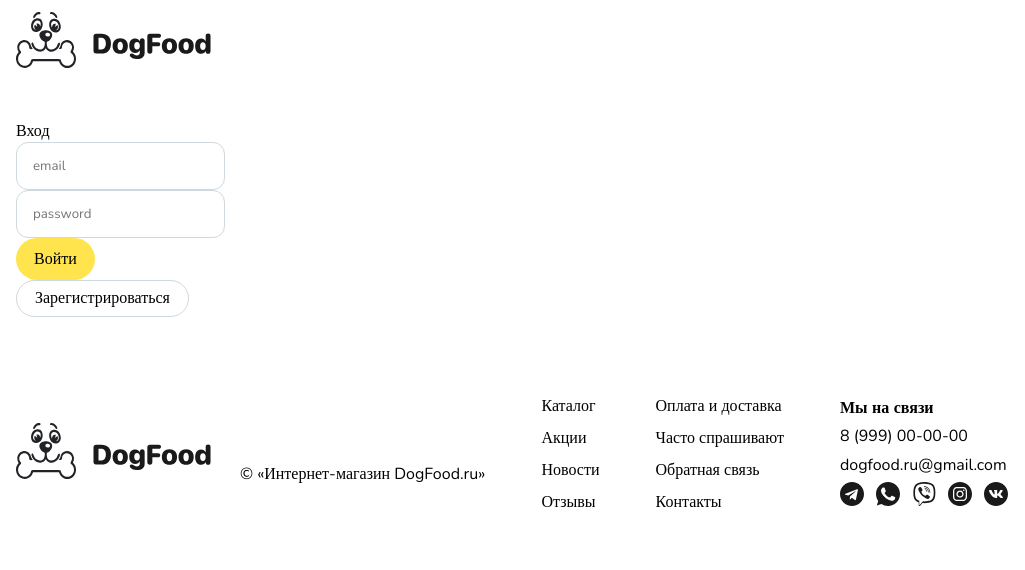
Scenario: Тест-кейс-1 домашнего задания › Авторизация пользователя › Проверка отправки пустой формы
Click the button with test id "signFormSubmitButton": [56, 259] box [16,238,95,280]
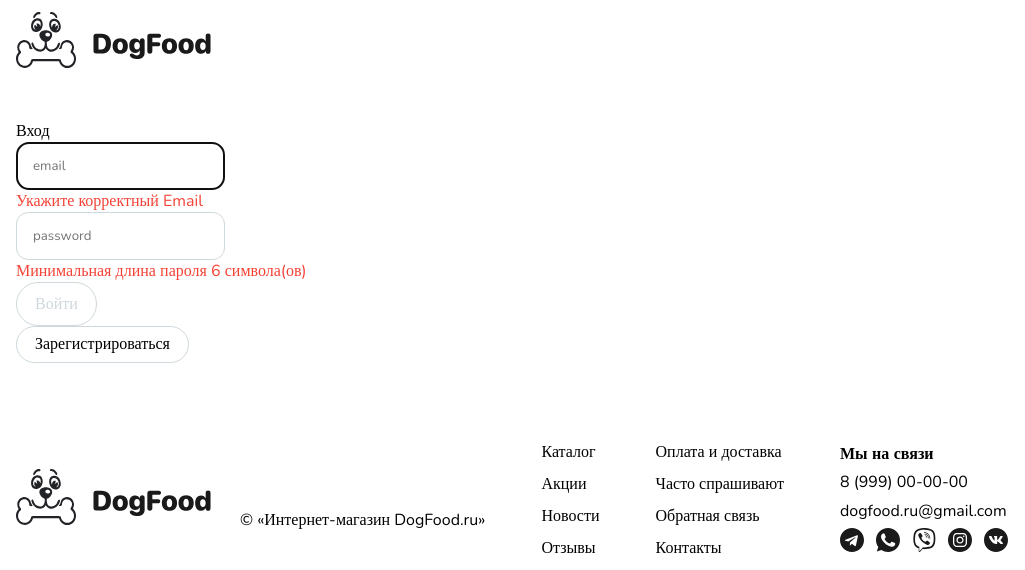
Check: the button with test id "signFormSubmitButton" is disabled, box [16,282,97,326]
Check: the text "Укажите корректный Email" is shown, box [16,190,203,212]
Check: the text "Минимальная длина пароля 6 символа(ов)" is shown, box [16,260,306,282]
